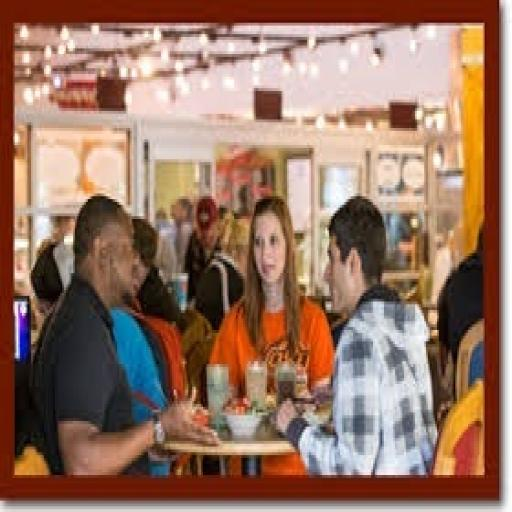eating: (30, 190, 222, 478), (272, 190, 439, 478)
